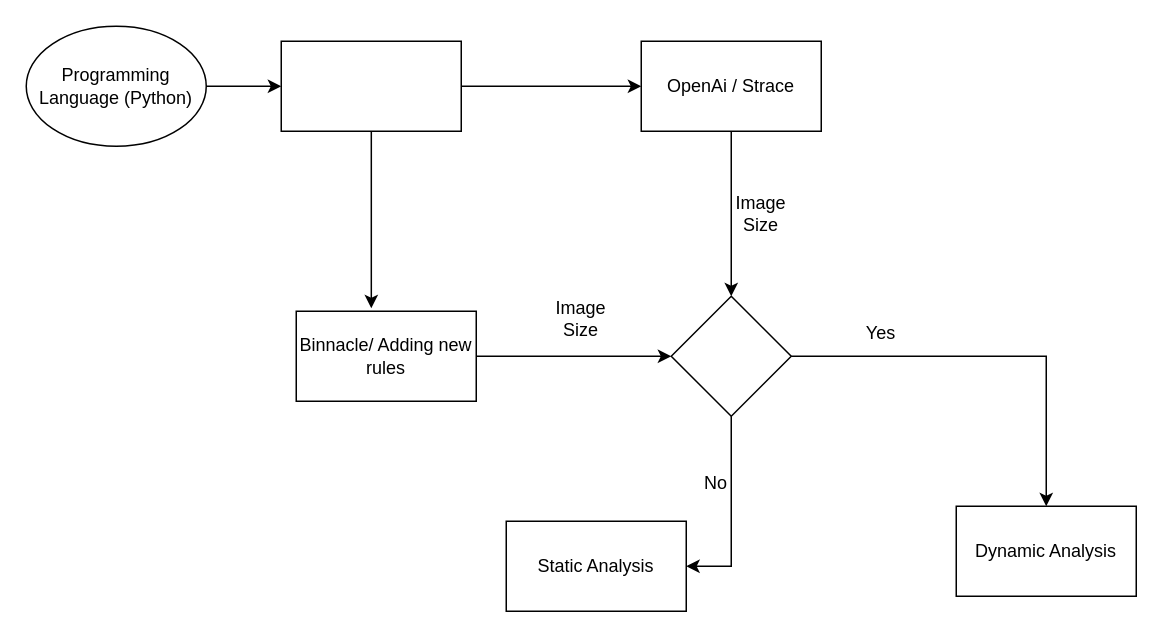
This 1163x638 diagram has some shape labels left out. Here are the shapes that lost their labels. From the top down, the box of each, then its label:
(280, 40, 461, 131): GitHuub Repository
(670, 295, 791, 416): if Static > Dynamic
